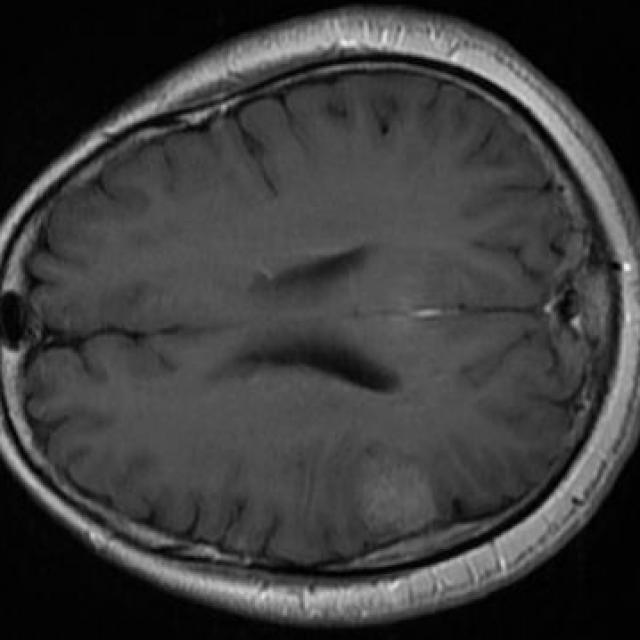meningioma: (362, 467, 435, 533)
